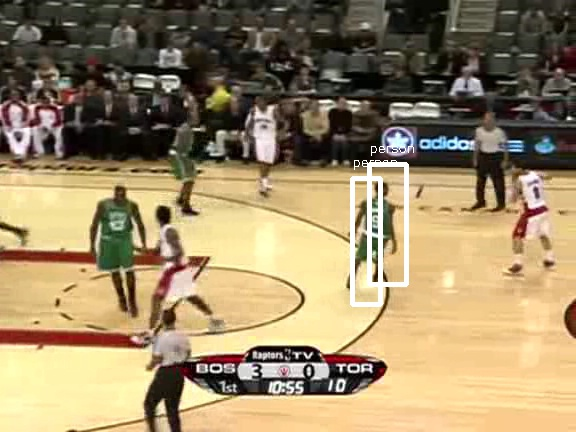person: (361, 192, 395, 273), (360, 192, 394, 273), (362, 192, 396, 273), (361, 191, 395, 272), (361, 193, 395, 274)
target_negative: (272, 258, 552, 431), (387, 29, 486, 158), (58, 358, 247, 388), (487, 363, 565, 413), (548, 71, 556, 255), (409, 394, 523, 405)
